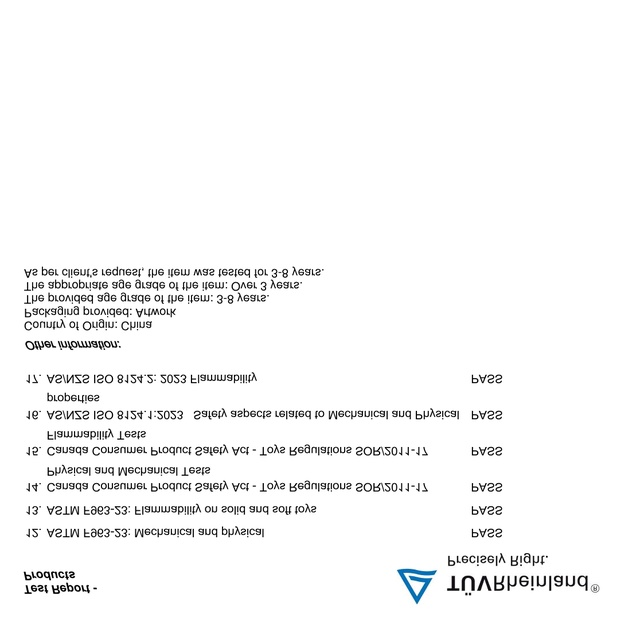tuv_rheinland: (396, 564, 604, 606)
